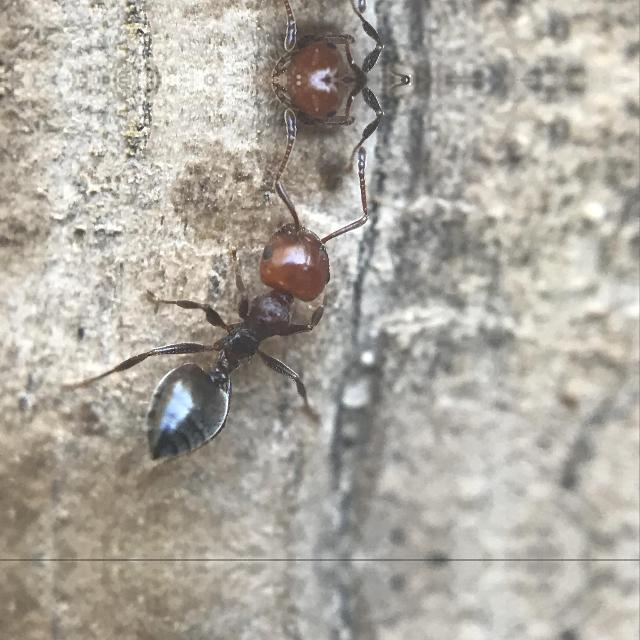Crematogaster: (84, 203, 356, 474), (258, 80, 440, 142), (258, 18, 440, 80)
